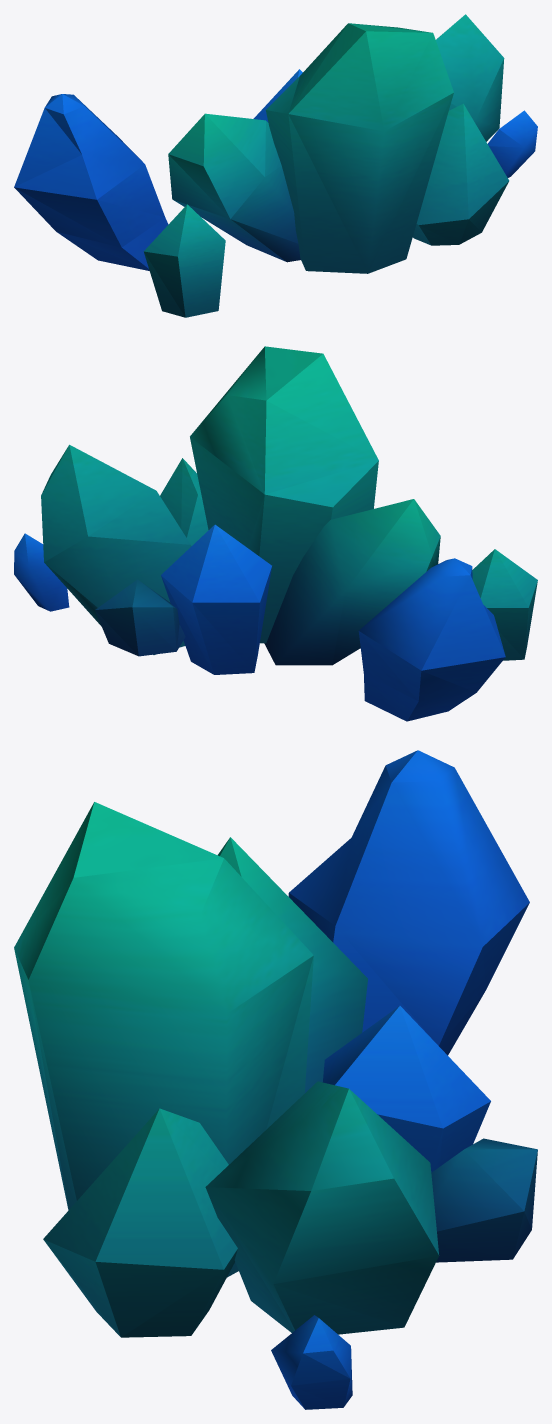
Rendered from ZLP_Crystalk_A_11.FBX.
The picture shows the model from 3 angles, top to bottom: view 1: azimuth 30°, elevation 25°; view 2: azimuth 150°, elevation 25°; view 3: azimuth 270°, elevation 25°; orthographic projection. The views are drawn at different scales.
Visible parts, largest first — view 1: ZLP_Crystalk_A_11; view 2: ZLP_Crystalk_A_11; view 3: ZLP_Crystalk_A_11.
Boxes of the visible parts, box(x1,y1,x2,y2) form: ZLP_Crystalk_A_11: box(14, 14, 537, 317); ZLP_Crystalk_A_11: box(14, 346, 537, 721); ZLP_Crystalk_A_11: box(14, 750, 537, 1409).
Bounding box in the file's own units: 209 × 97.16 × 107.
